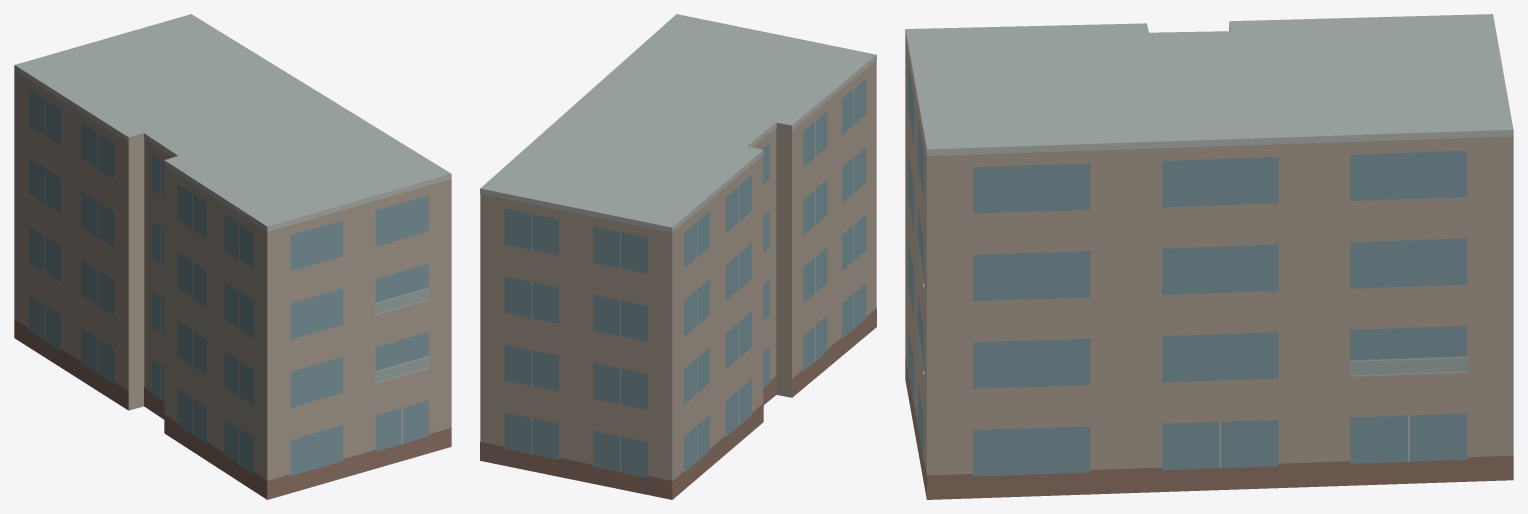
Rendered from survey-upis-32627953.glb.
3 renders of one model, left to right at view 1: azimuth 30°, elevation 25°; view 2: azimuth 150°, elevation 25°; view 3: azimuth 270°, elevation 25°, orthographic. The views are drawn at different scales.
Visible parts, largest first — view 1: survey-upis-32627953.tmp; view 2: survey-upis-32627953.tmp; view 3: survey-upis-32627953.tmp.
Part boxes in pixels (x1,y1,x2,y2): survey-upis-32627953.tmp: (14,14,451,499); survey-upis-32627953.tmp: (480,14,876,499); survey-upis-32627953.tmp: (905,14,1513,499).
Size of the model in its own units: 10.7 by 12.9 by 20.3.
